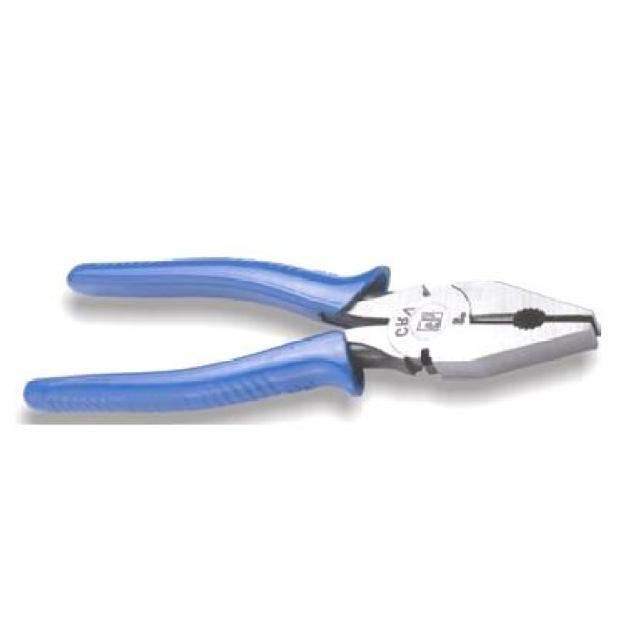pliers: (22, 244, 616, 422)
